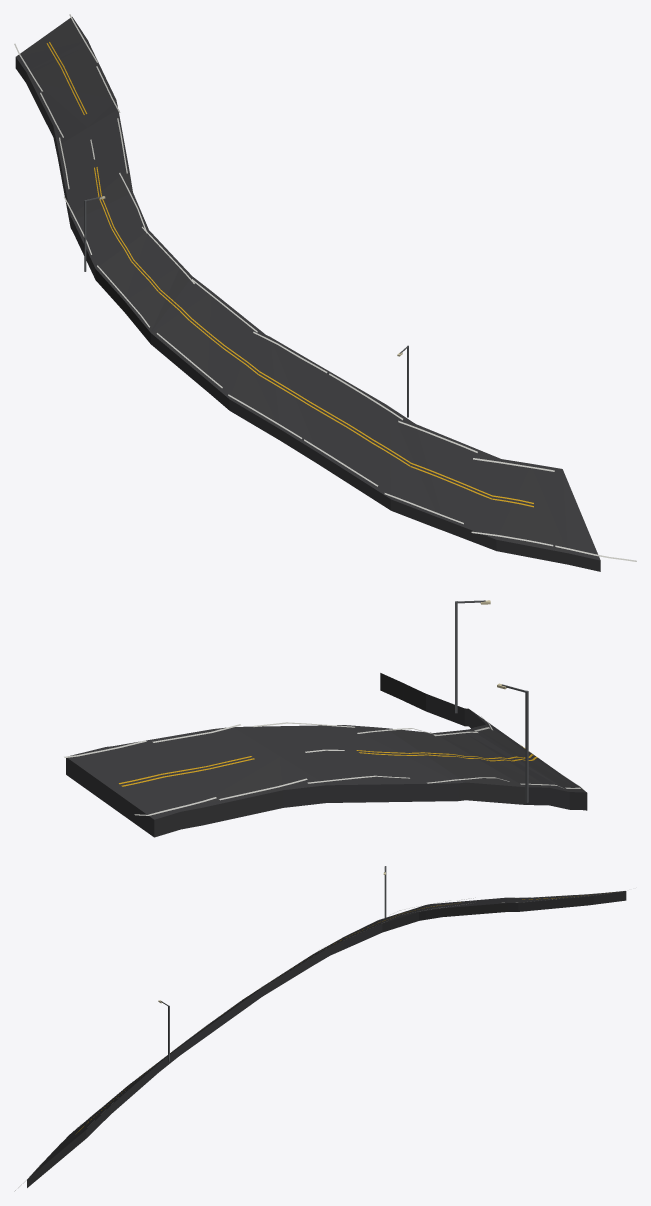
Rendered from 17-109472-59445.02bdd058.glb.
The picture shows the model from 3 angles, top to bottom: view 1: azimuth 30°, elevation 25°; view 2: azimuth 150°, elevation 25°; view 3: azimuth 270°, elevation 25°; orthographic projection. The views are drawn at different scales.
Bounding box in the file's own units: 34.71 × 32.76 × 76.21.
